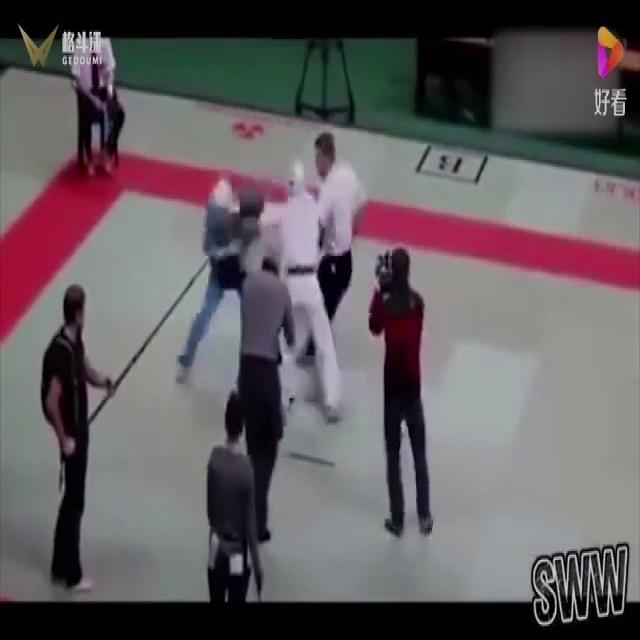fight: (171, 151, 347, 431)
non-fight: (27, 274, 126, 596), (366, 239, 438, 542), (230, 251, 298, 545), (198, 384, 264, 602), (309, 124, 367, 323), (68, 26, 130, 178)
